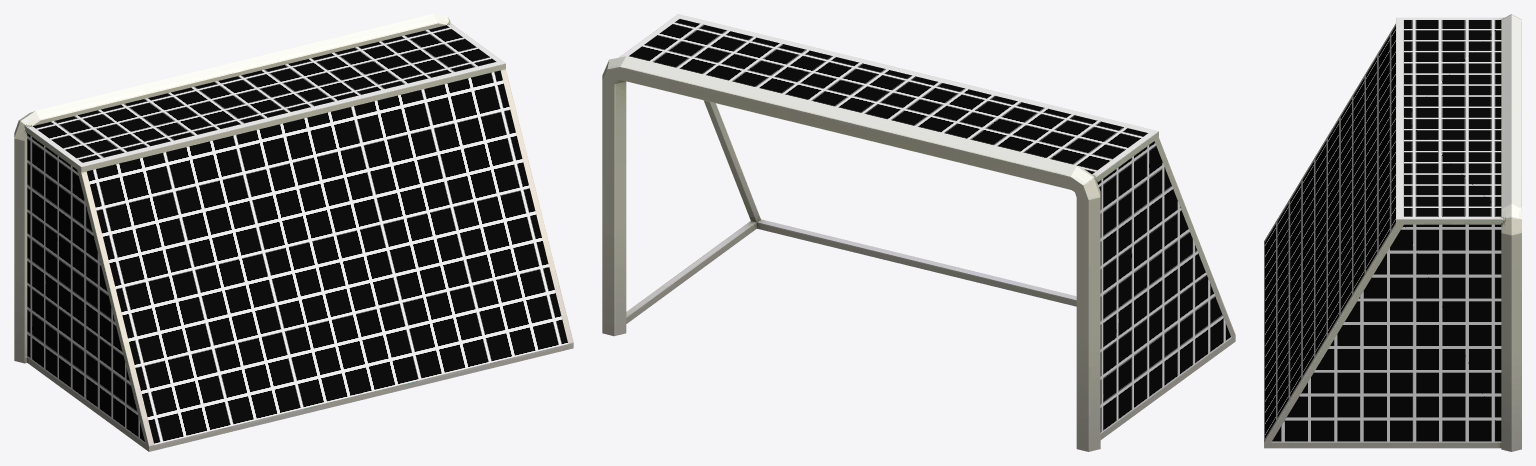
The model's file is item_soccer_goalposts.glb.
The picture shows the model from 3 angles, left to right: view 1: azimuth 30°, elevation 25°; view 2: azimuth 150°, elevation 25°; view 3: azimuth 270°, elevation 25°; orthographic projection. The views are drawn at different scales.
Parts seen in each view (by area): view 1: net, Goalposts; view 2: net, Goalposts; view 3: net, Goalposts.
Part boxes in pixels (x1=…): net: x1=27, y1=25, x2=568, y2=444; Goalposts: x1=14, y1=14, x2=573, y2=451; net: x1=628, y1=19, x2=1231, y2=433; Goalposts: x1=602, y1=14, x2=1235, y2=451; net: x1=1264, y1=20, x2=1501, y2=442; Goalposts: x1=1264, y1=14, x2=1521, y2=451.
Bounding box in the file's own units: 0.6535 × 0.3472 × 0.3405.
Materials: 2 (2 with a texture image).
